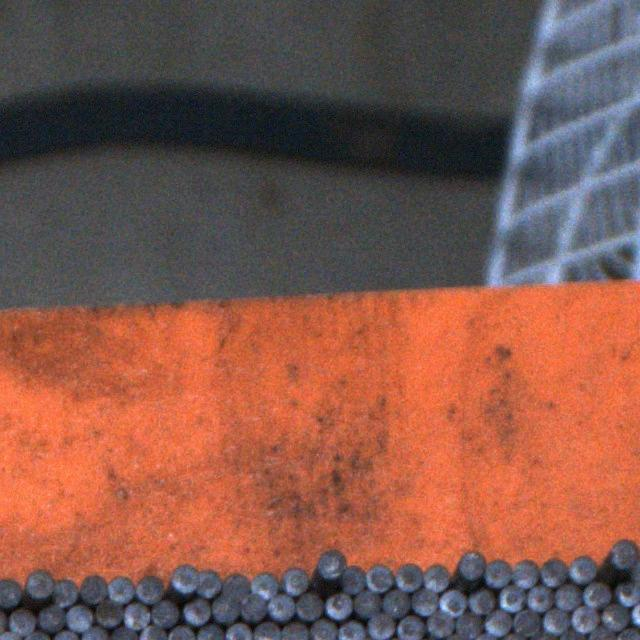tool: (610, 536, 640, 568), (223, 572, 252, 602), (393, 560, 422, 590), (134, 575, 164, 604), (318, 548, 347, 578), (210, 595, 239, 624), (511, 558, 539, 588), (170, 564, 198, 594), (80, 572, 108, 602), (25, 570, 53, 600), (568, 554, 596, 583), (540, 558, 568, 586), (366, 564, 394, 592), (582, 582, 610, 610), (279, 566, 307, 594), (352, 590, 380, 618), (94, 598, 122, 626), (325, 592, 353, 620), (64, 603, 92, 631), (183, 597, 211, 625), (250, 570, 278, 598), (296, 592, 324, 620), (438, 588, 466, 616), (8, 607, 36, 635), (600, 602, 628, 630), (428, 610, 456, 638), (340, 564, 366, 594), (411, 588, 438, 616), (367, 613, 395, 640), (107, 574, 134, 602), (381, 589, 408, 617), (151, 600, 179, 627), (572, 604, 599, 632), (239, 593, 266, 621), (454, 613, 482, 640), (52, 577, 78, 606), (424, 564, 450, 592), (484, 558, 510, 586), (466, 588, 494, 614), (39, 604, 65, 632), (458, 550, 484, 578), (124, 602, 152, 628), (196, 568, 222, 596), (526, 586, 553, 612), (484, 608, 511, 634), (268, 593, 294, 620), (514, 609, 540, 635), (554, 583, 580, 609), (542, 608, 568, 634), (501, 585, 526, 612), (398, 616, 426, 640), (309, 618, 337, 640), (0, 577, 21, 606), (616, 582, 640, 606), (338, 620, 366, 640), (280, 621, 308, 640), (254, 621, 281, 640), (224, 622, 251, 640), (196, 623, 224, 640), (138, 624, 165, 640), (167, 626, 195, 640), (82, 626, 110, 640), (112, 626, 139, 640), (588, 626, 614, 640), (558, 629, 586, 640), (23, 630, 51, 640), (53, 630, 80, 640), (618, 628, 640, 640), (526, 631, 555, 640), (630, 601, 640, 627), (0, 630, 22, 640), (498, 633, 526, 640), (471, 633, 498, 640), (0, 607, 6, 637), (443, 634, 467, 640)
